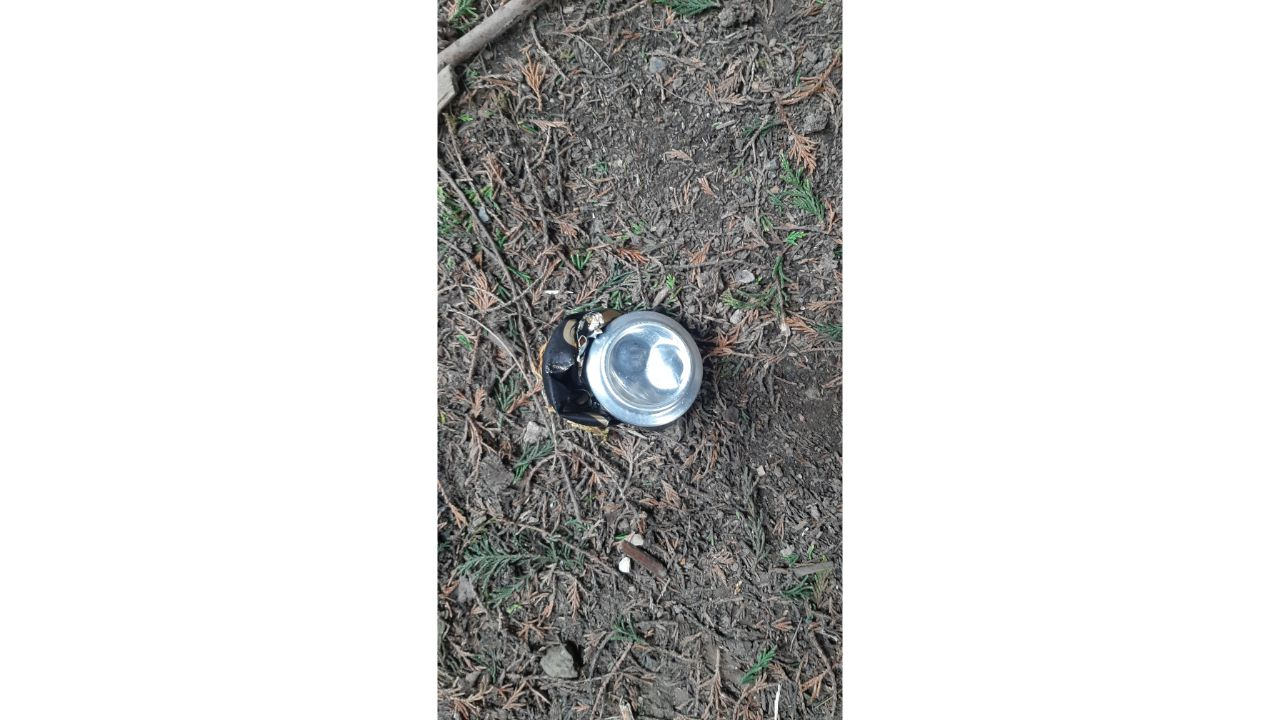Can: (540, 309, 704, 432)
